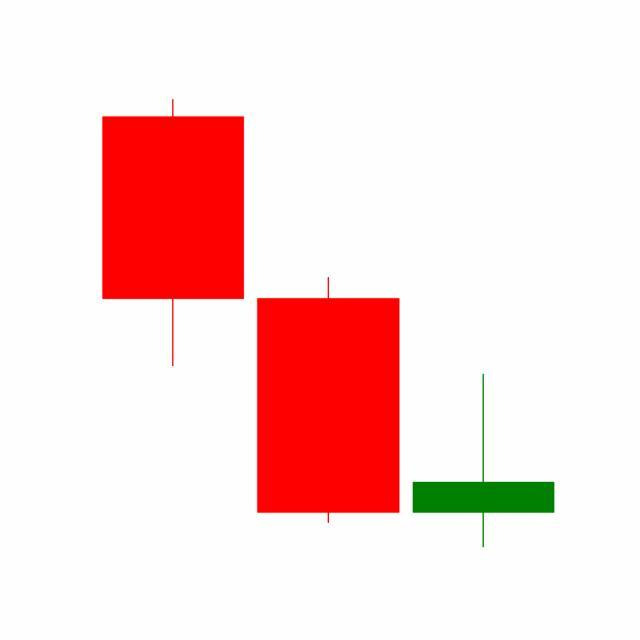Spinning Top: (406, 372, 562, 550)
